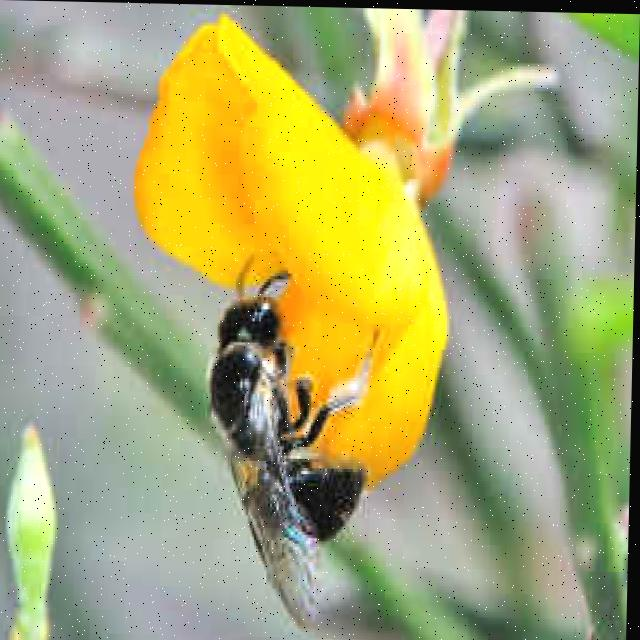Braunsapis: (191, 244, 416, 591)
